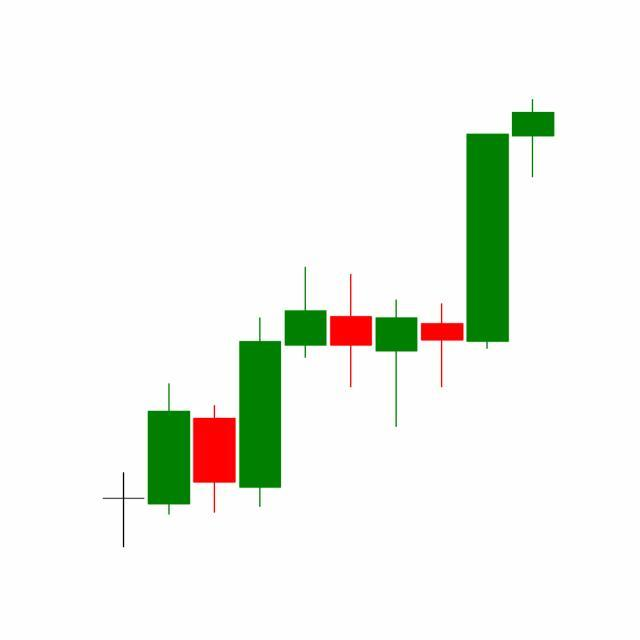Hikkake Pattern: (283, 131, 512, 432)
